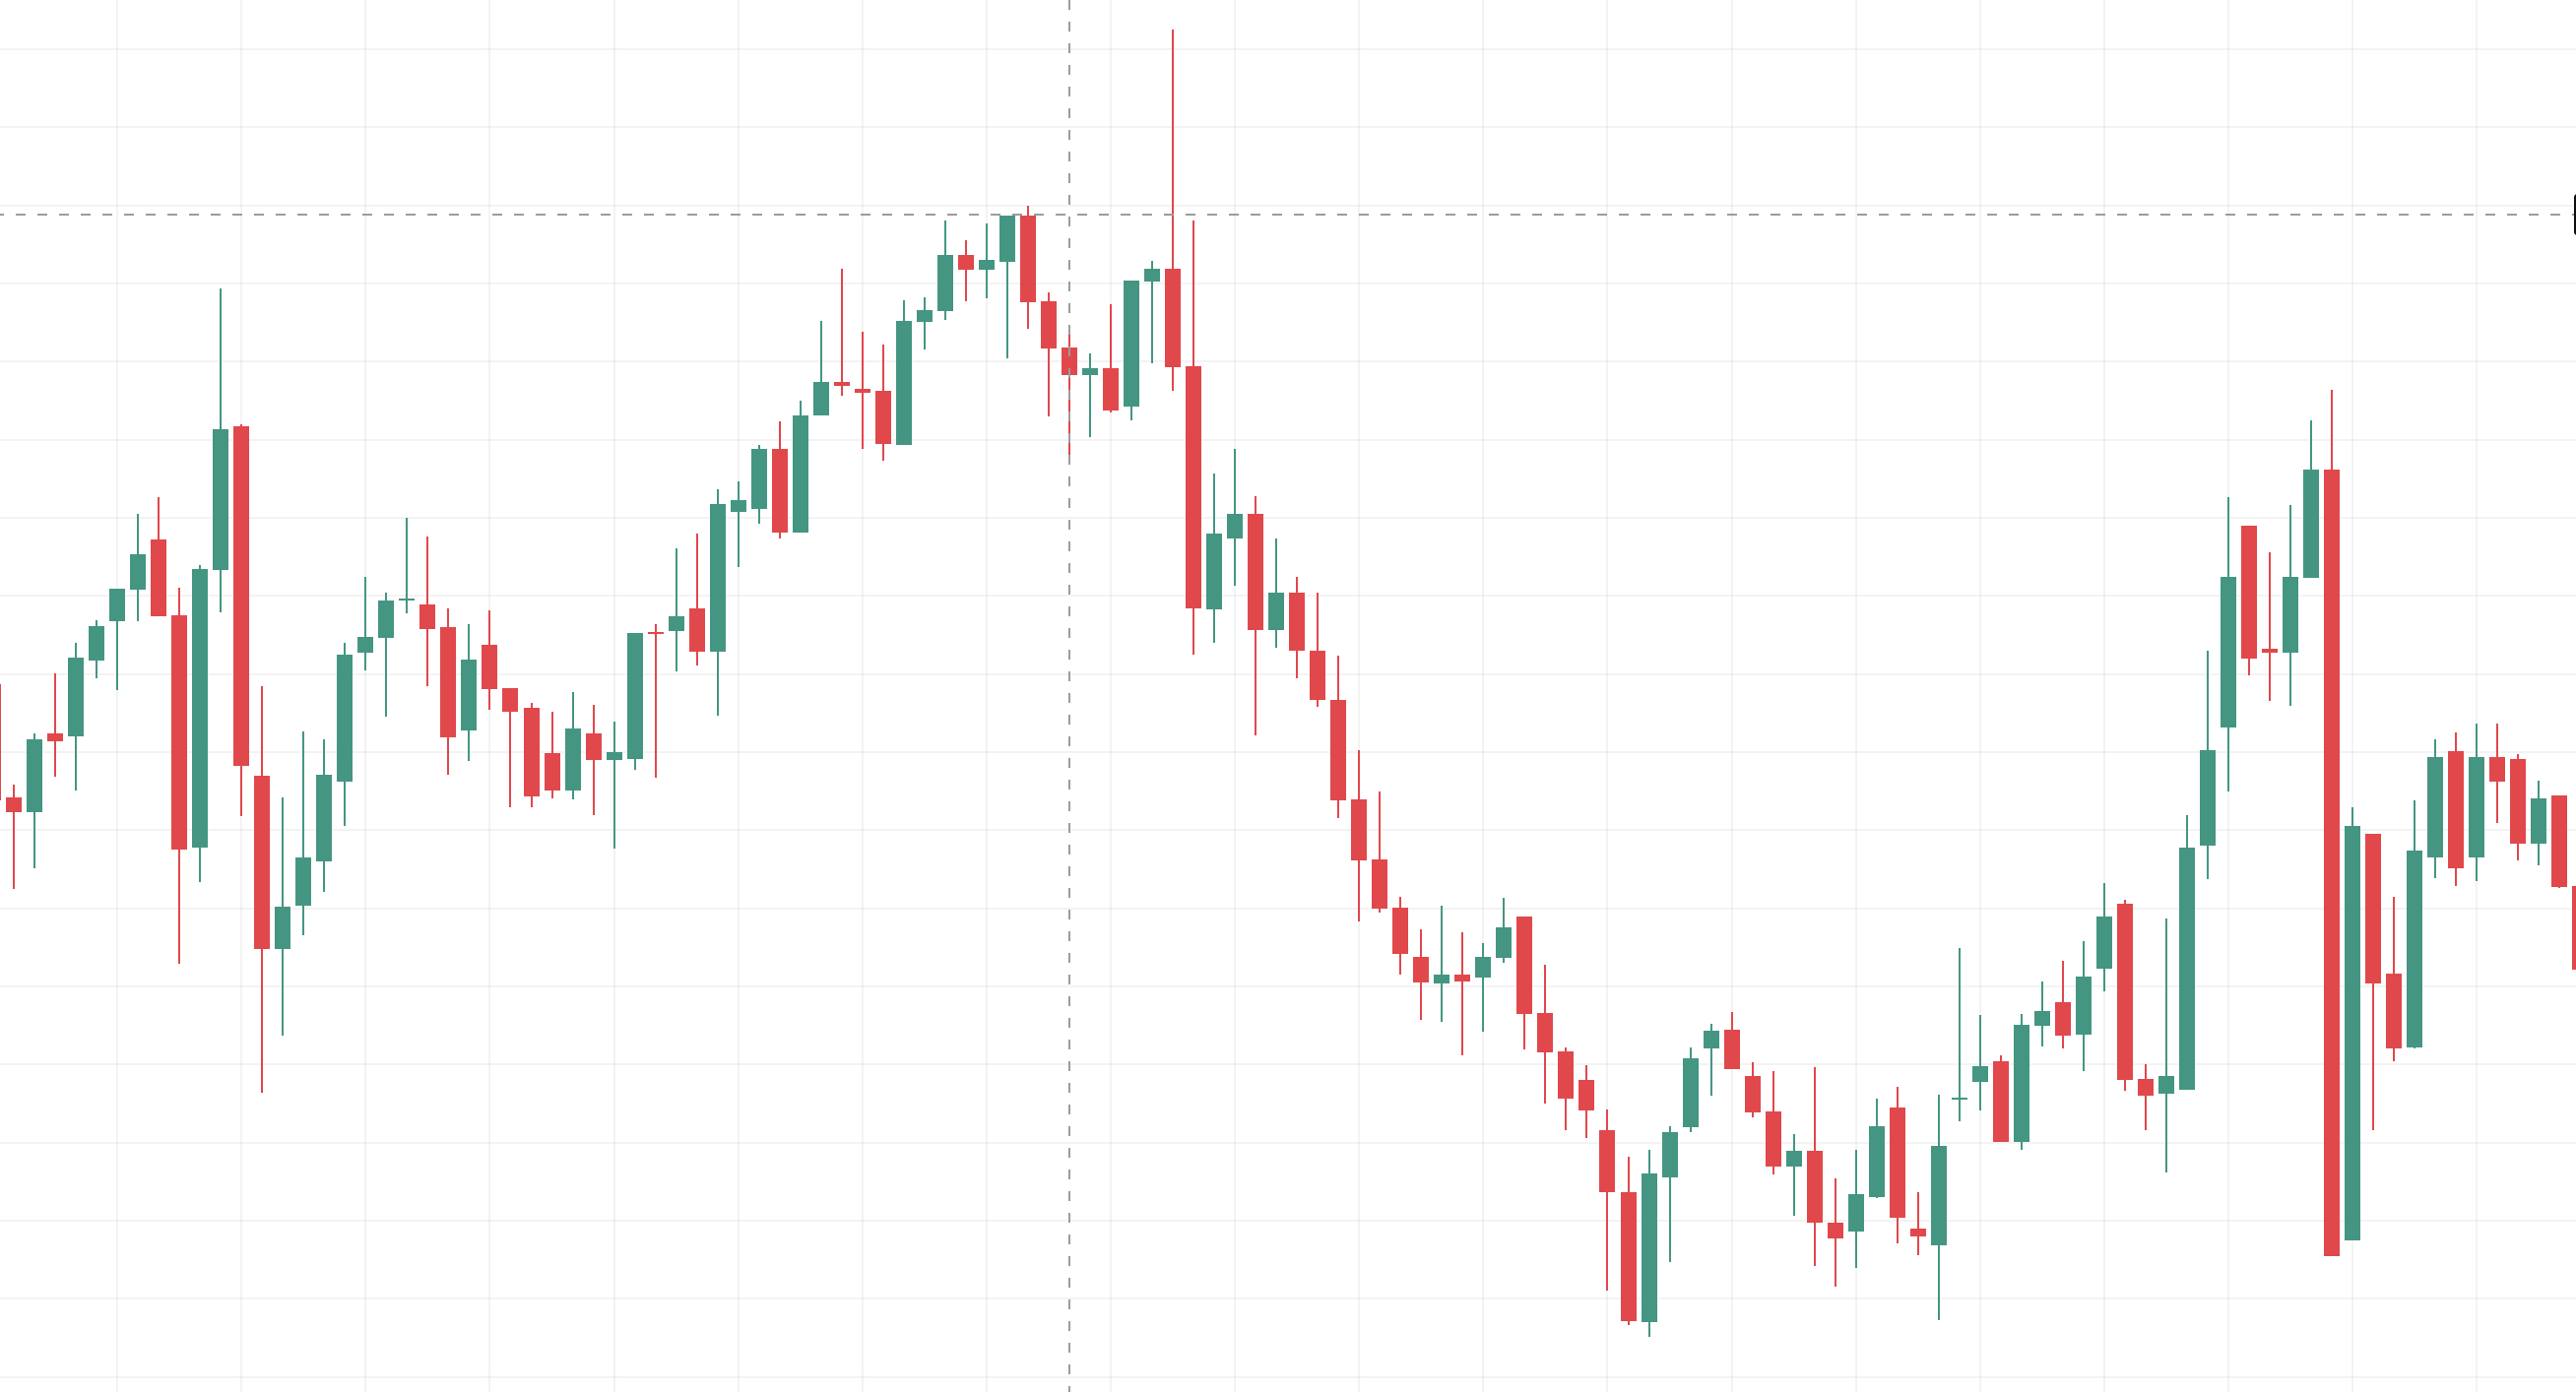V-turn: (1364, 456, 1728, 1392)
